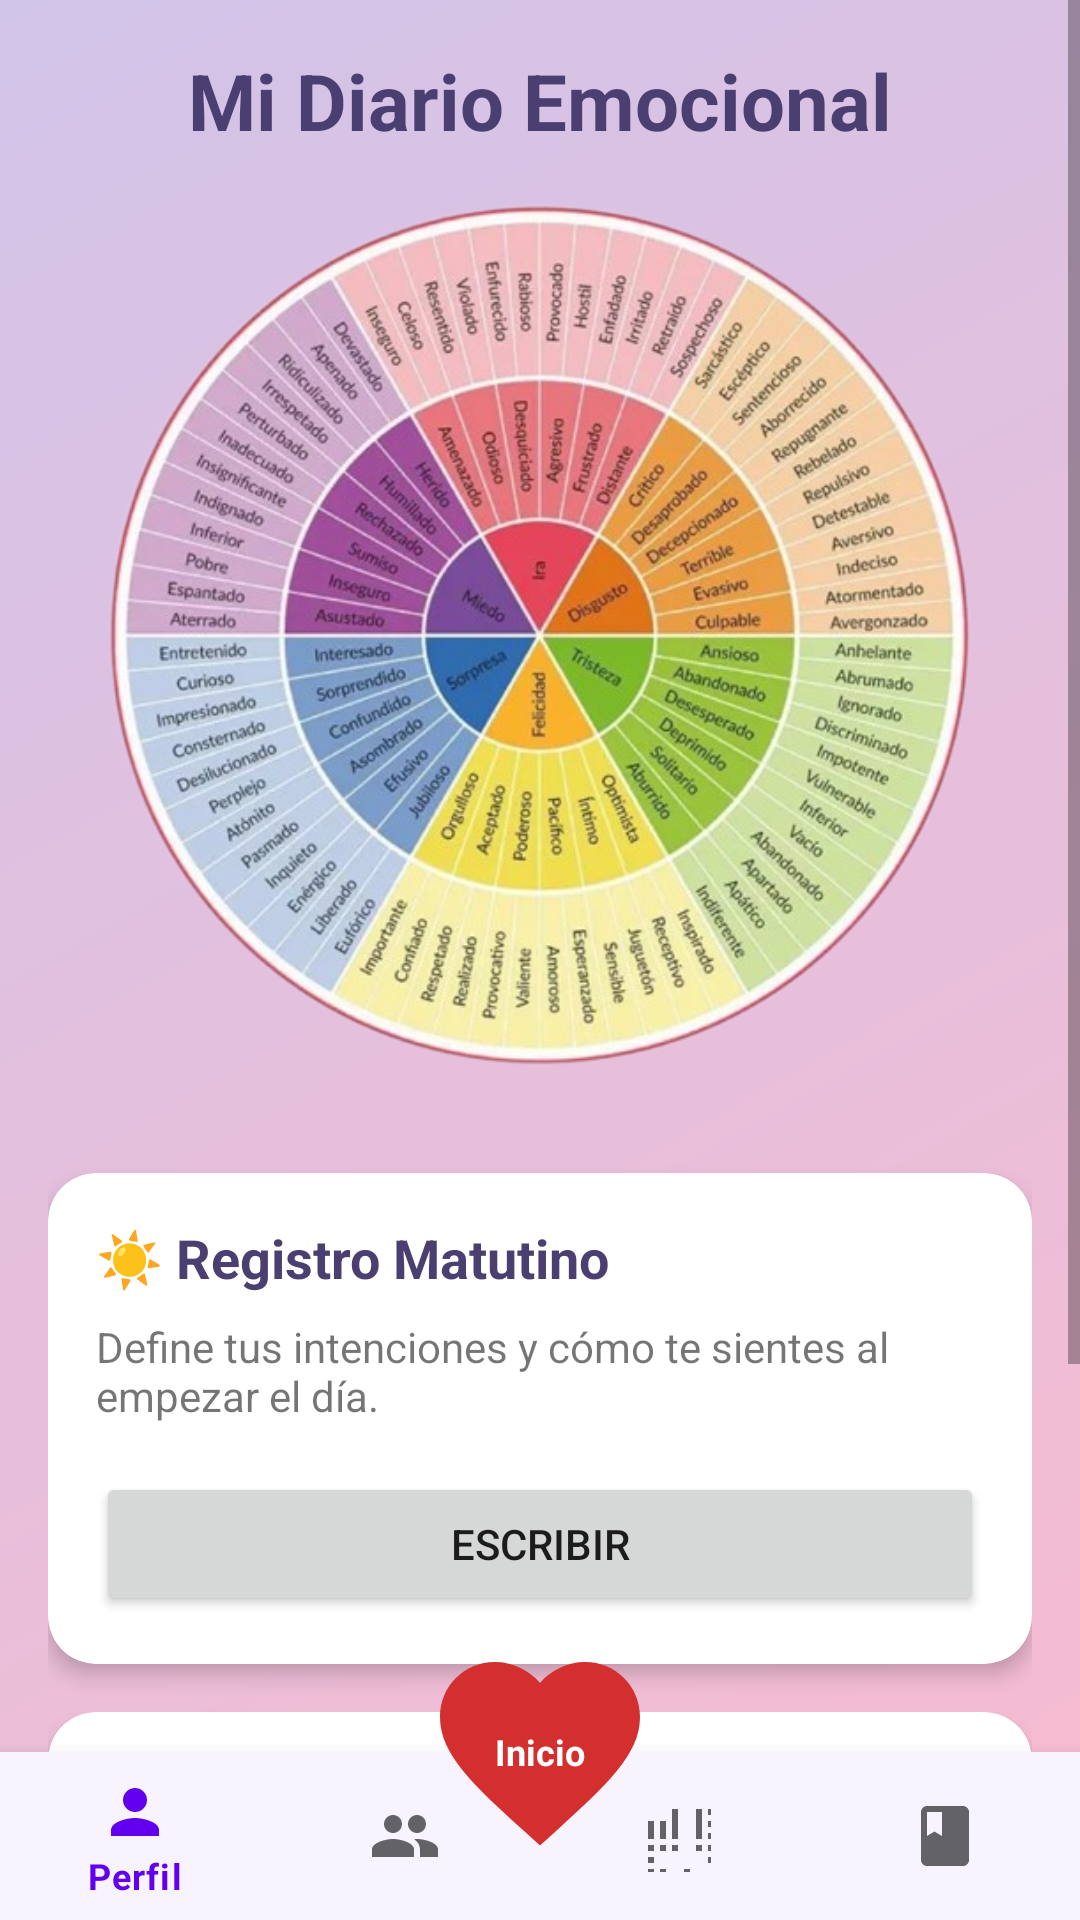

Icon bounding boxes for this 1080x1920 phone screenshot, format detection(x1, y1, x2, y2):
corazon shape: detection(420, 1662, 660, 1872)
